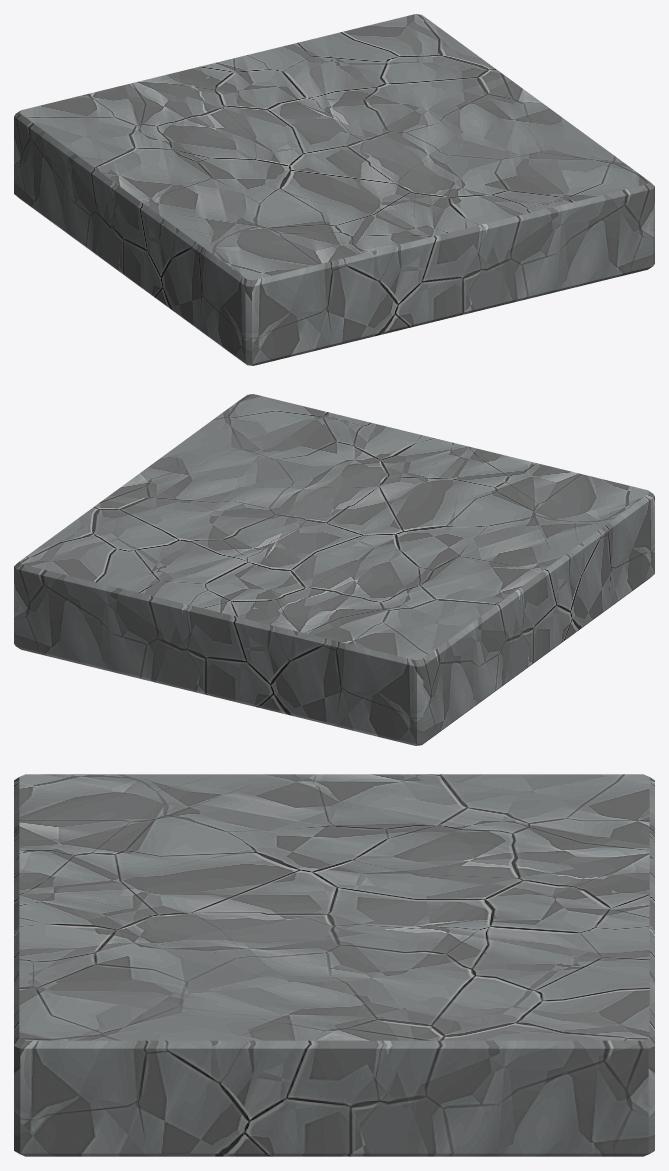
The model's file is block.fbx.
The picture shows the model from 3 angles, top to bottom: view 1: azimuth 30°, elevation 25°; view 2: azimuth 150°, elevation 25°; view 3: azimuth 270°, elevation 25°; orthographic projection. The views are drawn at different scales.
Parts seen in each view (by area): view 1: block; view 2: block; view 3: block.
Boxes of the visible parts, <box> form: block: <box>14,14,654,365</box>; block: <box>14,394,654,745</box>; block: <box>14,774,654,1156</box>.
Size of the model in its own units: 50 by 10 by 50.
